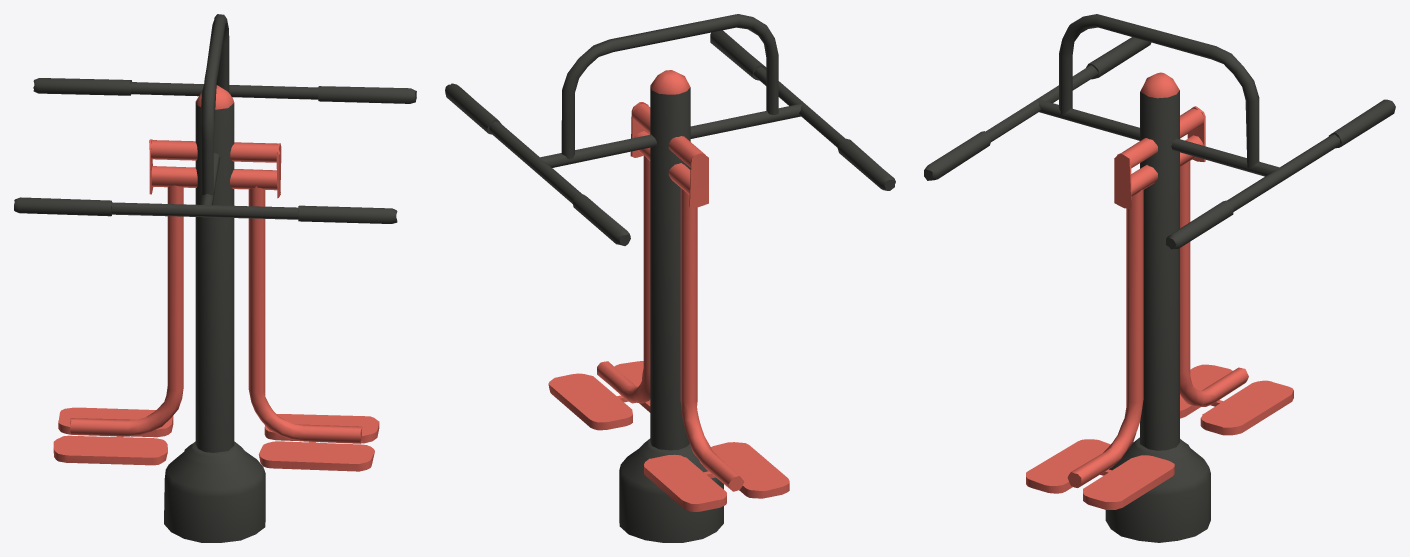
Rendered from тренажер1.glb.
3 renders of one model, left to right at view 1: azimuth 30°, elevation 25°; view 2: azimuth 150°, elevation 25°; view 3: azimuth 270°, elevation 25°, orthographic. The views are drawn at different scales.
Visible parts, largest first — view 1: SM_Aviomotornaya_ZU_5_Flora.002; view 2: SM_Aviomotornaya_ZU_5_Flora.002; view 3: SM_Aviomotornaya_ZU_5_Flora.002.
Part boxes in pixels (box(x1,y1,x2,y2)): SM_Aviomotornaya_ZU_5_Flora.002: box(14, 14, 416, 542); SM_Aviomotornaya_ZU_5_Flora.002: box(445, 14, 895, 542); SM_Aviomotornaya_ZU_5_Flora.002: box(924, 14, 1395, 542).
Bounding box in the file's own units: 1.44 × 1.57 × 1.37.
1 material, 1 textured.
